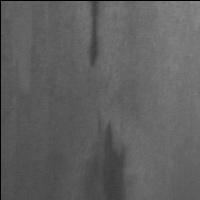inclusion: (95, 114, 134, 200), (83, 1, 104, 71)
